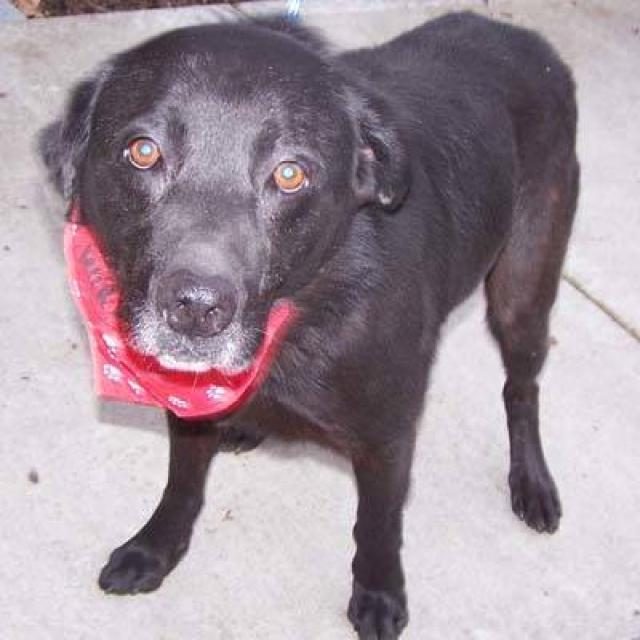dogs: (45, 19, 582, 600)
